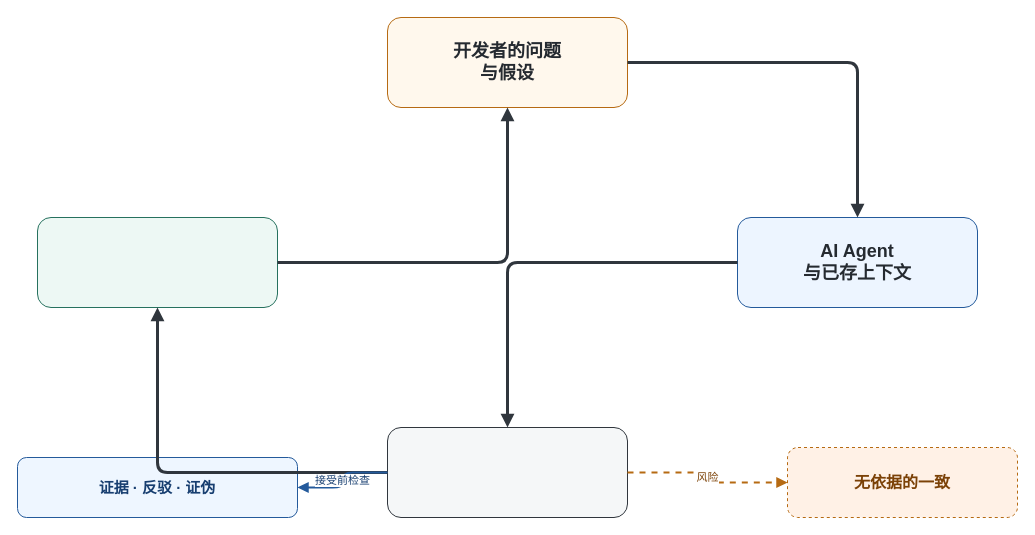
Image size: 1035x535. Some labels were removed from this diagram. Here are the shapes that lost their labels. From the top down, the box of each, then its label:
(36, 216, 278, 308): 开发者的认同 或验证
(386, 426, 628, 518): 经过润色的回应
